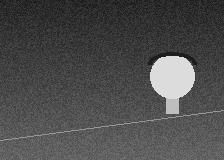no_helmet: (150, 52, 194, 103)
